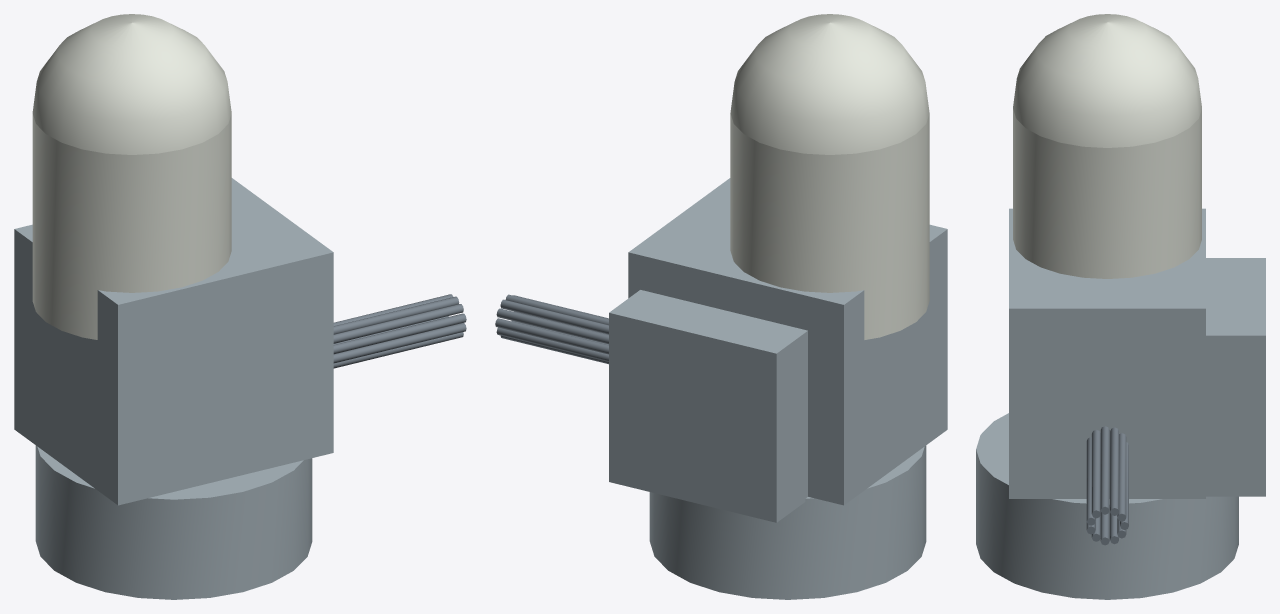
File: pla_hpj11_ciws.glb
3 renders of one model, left to right at view 1: azimuth 30°, elevation 25°; view 2: azimuth 150°, elevation 25°; view 3: azimuth 270°, elevation 25°, orthographic. The views are drawn at different scales.
Visible parts, largest first — view 1: naval_paint, radome, titanium; view 2: naval_paint, radome, titanium; view 3: naval_paint, radome, titanium.
Boxes of the visible parts, x1=… form: naval_paint: x1=14, y1=178, x2=333, y2=599; radome: x1=32, y1=14, x2=231, y2=339; titanium: x1=333, y1=294, x2=466, y2=368; naval_paint: x1=609, y1=178, x2=947, y2=599; radome: x1=730, y1=14, x2=929, y2=339; titanium: x1=495, y1=294, x2=608, y2=364; naval_paint: x1=976, y1=208, x2=1265, y2=599; radome: x1=1013, y1=14, x2=1201, y2=278; titanium: x1=1086, y1=426, x2=1128, y2=545.
Size of the model in its own units: 8.1 by 10 by 5.23.
